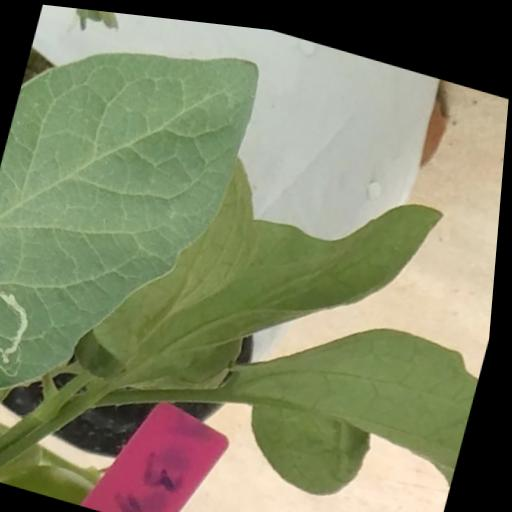Leaf_Miner: (0, 0, 268, 451)
